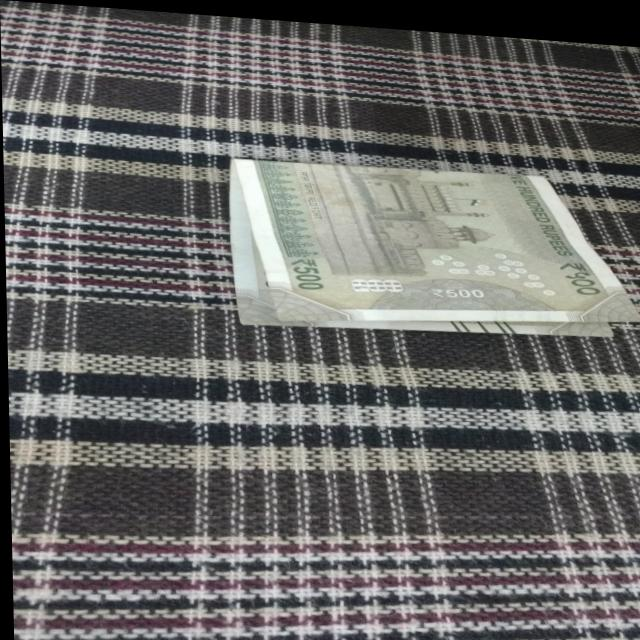Currency: (214, 149, 619, 330)
